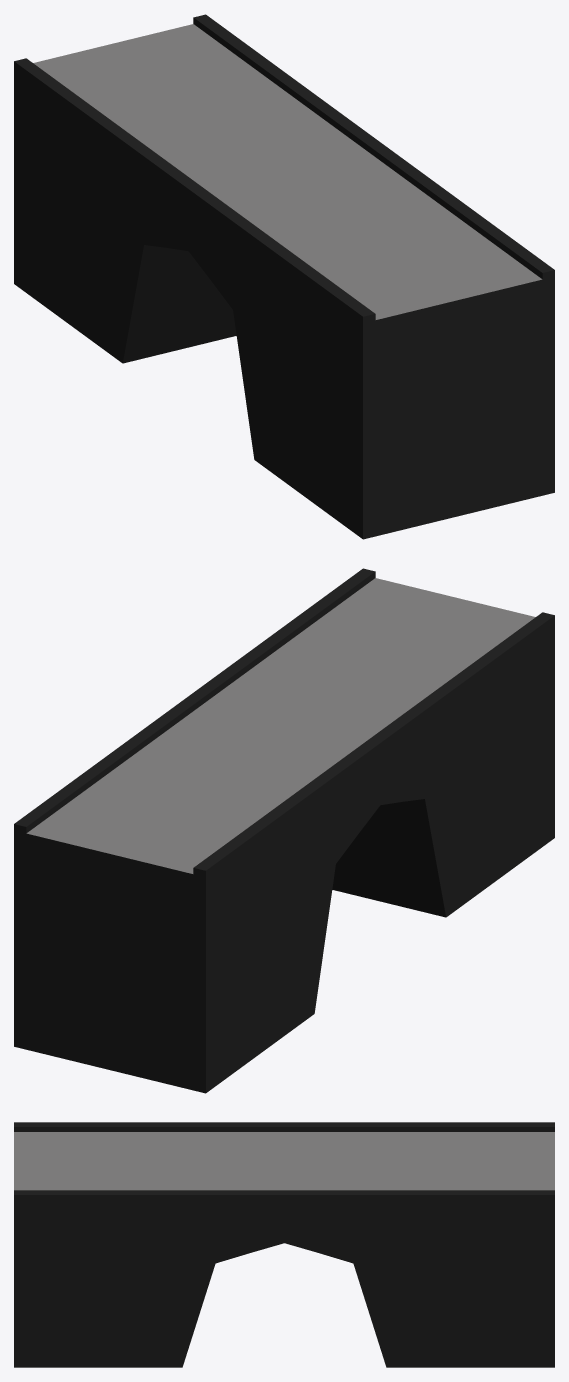
Rendered from Ponte.fbx.
3 views of the same model, one above another, from view 1: azimuth 30°, elevation 25°; view 2: azimuth 150°, elevation 25°; view 3: azimuth 270°, elevation 25° (orthographic). The views are drawn at different scales.
Visible parts, largest first — view 1: Cube; view 2: Cube; view 3: Cube.
Boxes of the visible parts, <box> form: Cube: <box>14,14,554,539</box>; Cube: <box>14,568,554,1093</box>; Cube: <box>14,1122,554,1367</box>.
Bounding box in the file's own units: 508 × 563 × 1601.
